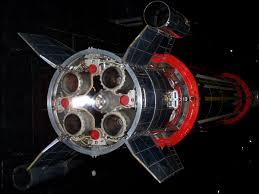body: (47, 47, 259, 158)
solar: (129, 63, 172, 136), (125, 135, 184, 184), (121, 24, 176, 67), (17, 31, 79, 69), (27, 138, 81, 173)
thruster: (142, 0, 177, 31), (10, 164, 39, 190), (100, 64, 125, 91), (101, 112, 125, 137), (61, 72, 86, 95), (63, 111, 84, 136)
